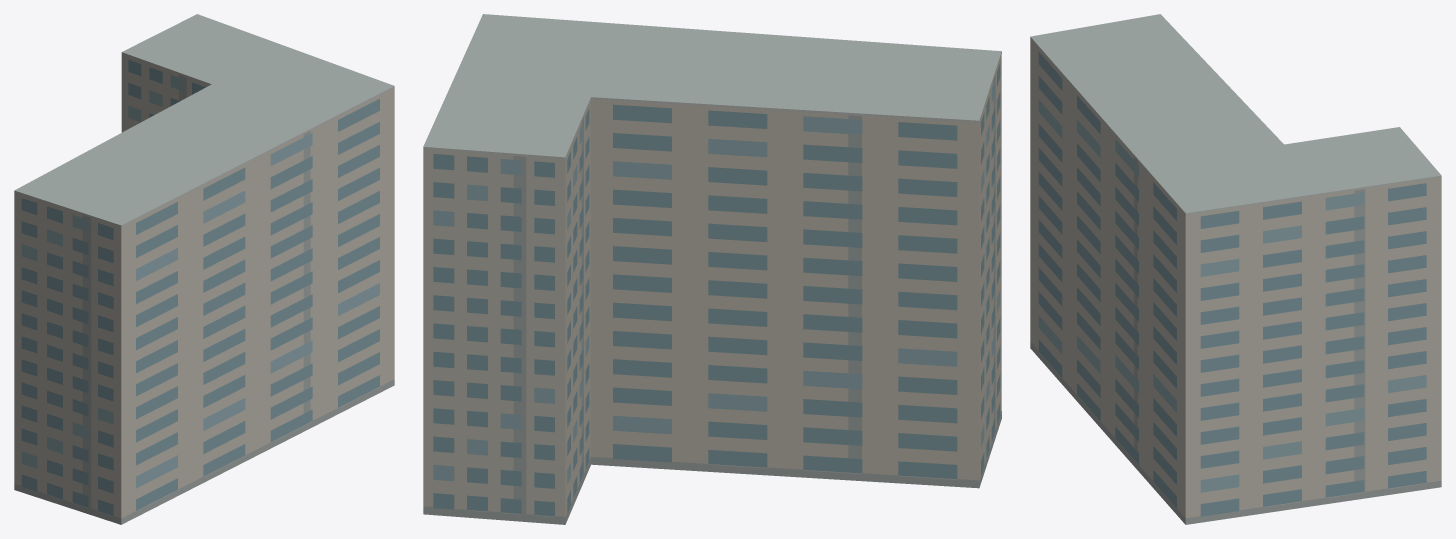
Rendered from residential-12eaad6f-cc34-4a20-85b6-410d16fda7d3.glb.
3 renders of one model, left to right at view 1: azimuth 30°, elevation 25°; view 2: azimuth 150°, elevation 25°; view 3: azimuth 270°, elevation 25°, orthographic. The views are drawn at different scales.
Parts seen in each view (by area): view 1: residential-12eaad6f-cc34-4a20-85b6-410d16fda7d3.tmp; view 2: residential-12eaad6f-cc34-4a20-85b6-410d16fda7d3.tmp; view 3: residential-12eaad6f-cc34-4a20-85b6-410d16fda7d3.tmp.
Boxes of the visible parts, x1,y1,x2,y2 form: residential-12eaad6f-cc34-4a20-85b6-410d16fda7d3.tmp: (14,14,394,524); residential-12eaad6f-cc34-4a20-85b6-410d16fda7d3.tmp: (423,14,1001,524); residential-12eaad6f-cc34-4a20-85b6-410d16fda7d3.tmp: (1030,14,1441,524).
Size of the model in its own units: 49.38 by 36 by 43.08.
